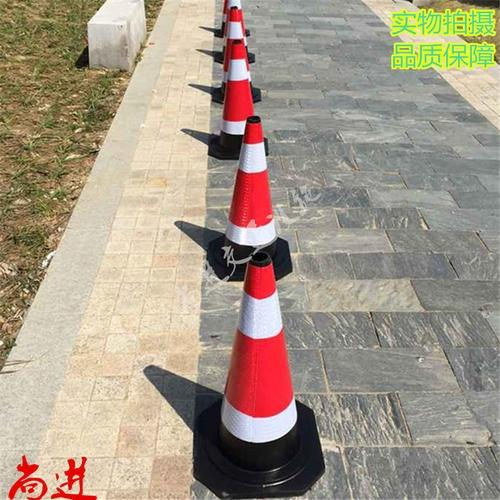cone_barrel: (208, 250, 319, 480), (213, 114, 286, 267), (209, 35, 254, 152)
